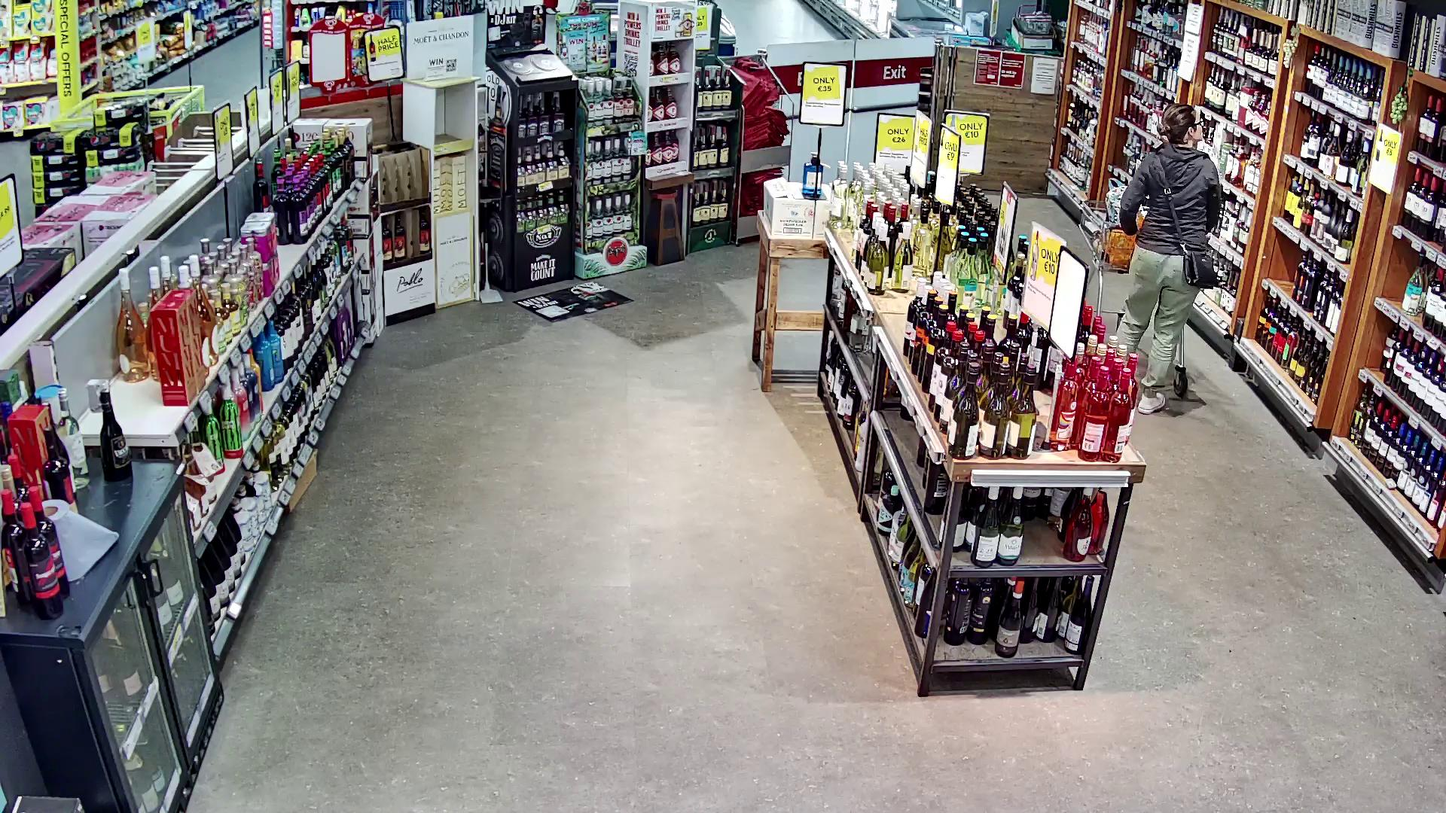backpack-or-handbag: (1183, 245, 1218, 288)
filled-trolly: (1079, 195, 1188, 399)
person: (1120, 103, 1221, 413)
person-with-basket-trolly-and-backpack-handbag: (1079, 103, 1223, 411)
